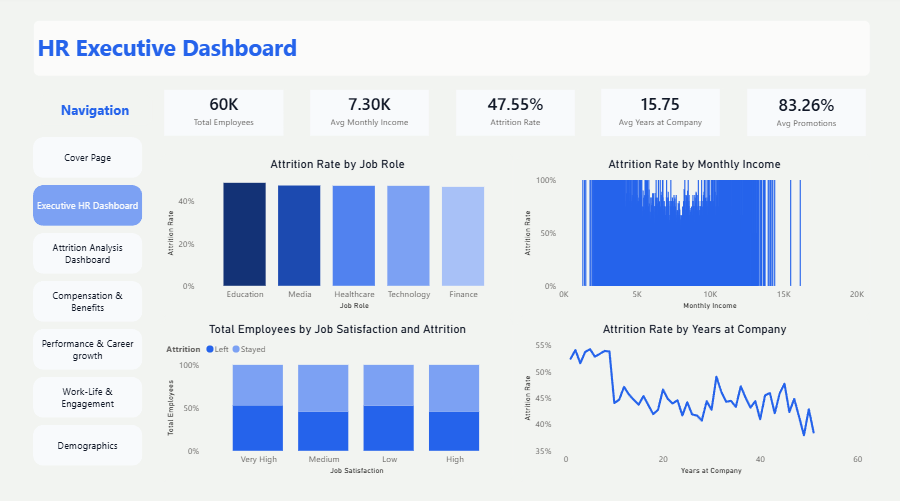

The page's visual inventory and layout, read from the dashboard file:
{"tool":"powerbi","page":{"name":"Executive HR Dashboard","canvas":[1280,720],"ordinal":1},"visuals":[{"type":"cardVisual","fields":{"Data":["HR-Employee.Total Employees (All)"]},"box":[231.1,128.4,181.1,75.7],"z":0},{"type":"cardVisual","fields":{"Data":["HR-Employee.Attrition Rate"]},"box":[644.2,128.6,180.8,75.8],"z":1000},{"type":"cardVisual","fields":{"Data":["Avg(HR-Employee.Monthly Income)"]},"box":[437.9,128.6,180.8,75.8],"z":2000},{"type":"cardVisual","fields":{"Data":["Avg(HR-Employee.Years at Company)"]},"box":[850.6,127.9,180.8,77.3],"z":3000},{"type":"cardVisual","fields":{"Data":["HR-Employee.Avg Promotions"]},"box":[1056.9,127.9,180.8,77.3],"z":4000},{"type":"columnChart","fields":{"Category":["HR-Employee.Job Role"],"Y":["HR-Employee.Attrition Rate"]},"box":[231.1,224.4,501.5,229.8],"z":5000},{"type":"lineChart","fields":{"Y":["HR-Employee.Attrition Rate"],"Category":["HR-Employee.Years at Company"]},"box":[736.7,458.2,501.5,229.8],"z":6000},{"type":"clusteredColumnChart","fields":{"Y":["HR-Employee.Attrition Rate"],"Category":["HR-Employee.Monthly Income"]},"box":[736.7,224.4,501.5,229.8],"z":7000},{"type":"textbox","box":[50.9,33.4,1186.6,79.5],"z":8000},{"type":"hundredPercentStackedColumnChart","fields":{"Category":["HR-Employee.Job Satisfaction"],"Series":["HR-Employee.Attrition"],"Y":["HR-Employee.Total Employees"]},"box":[231.1,458.2,501.5,229.8],"z":9000},{"type":"pageNavigator","box":[51.7,200,155,466.7],"z":10000},{"type":"textbox","box":[58.1,140.3,161.6,42.5],"z":11000}]}

Visuals, with their boxes in screenshot pixels (x1, y1, x2, y2), scaled from the page's 1280x720 canvas onto the 900x501 screenshot:
cardVisual - HR-Employee.Total Employees (All): <box>162,89,290,142</box>
cardVisual - HR-Employee.Attrition Rate: <box>453,89,580,142</box>
cardVisual - Avg(HR-Employee.Monthly Income): <box>308,89,435,142</box>
cardVisual - Avg(HR-Employee.Years at Company): <box>598,89,725,143</box>
cardVisual - HR-Employee.Avg Promotions: <box>743,89,870,143</box>
columnChart - HR-Employee.Job Role x HR-Employee.Attrition Rate: <box>162,156,515,316</box>
lineChart - HR-Employee.Attrition Rate x HR-Employee.Years at Company: <box>518,319,871,479</box>
clusteredColumnChart - HR-Employee.Attrition Rate x HR-Employee.Monthly Income: <box>518,156,871,316</box>
textbox: <box>36,23,870,79</box>
hundredPercentStackedColumnChart - HR-Employee.Job Satisfaction x HR-Employee.Attrition: <box>162,319,515,479</box>
pageNavigator: <box>36,139,145,464</box>
textbox: <box>41,98,154,127</box>
